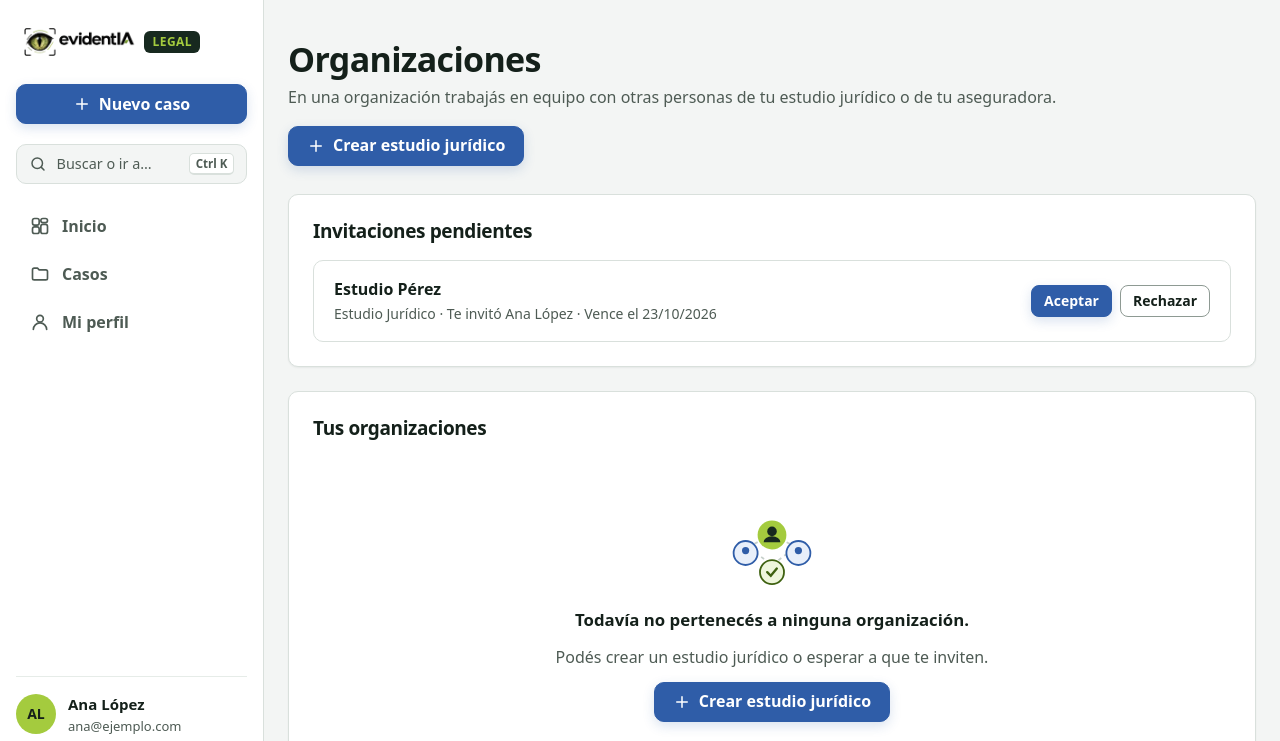
Test: mis organizaciones › aceptar una invitación lleva a la organización (CA10)
The image size is (1280, 741).
What coordinates should you click on to do the following:
click the button with aria-label "Aceptar la invitación de Estudio Pérez"
I would click on:
 (1072, 301)
Its box is [1031,285,1112,317].
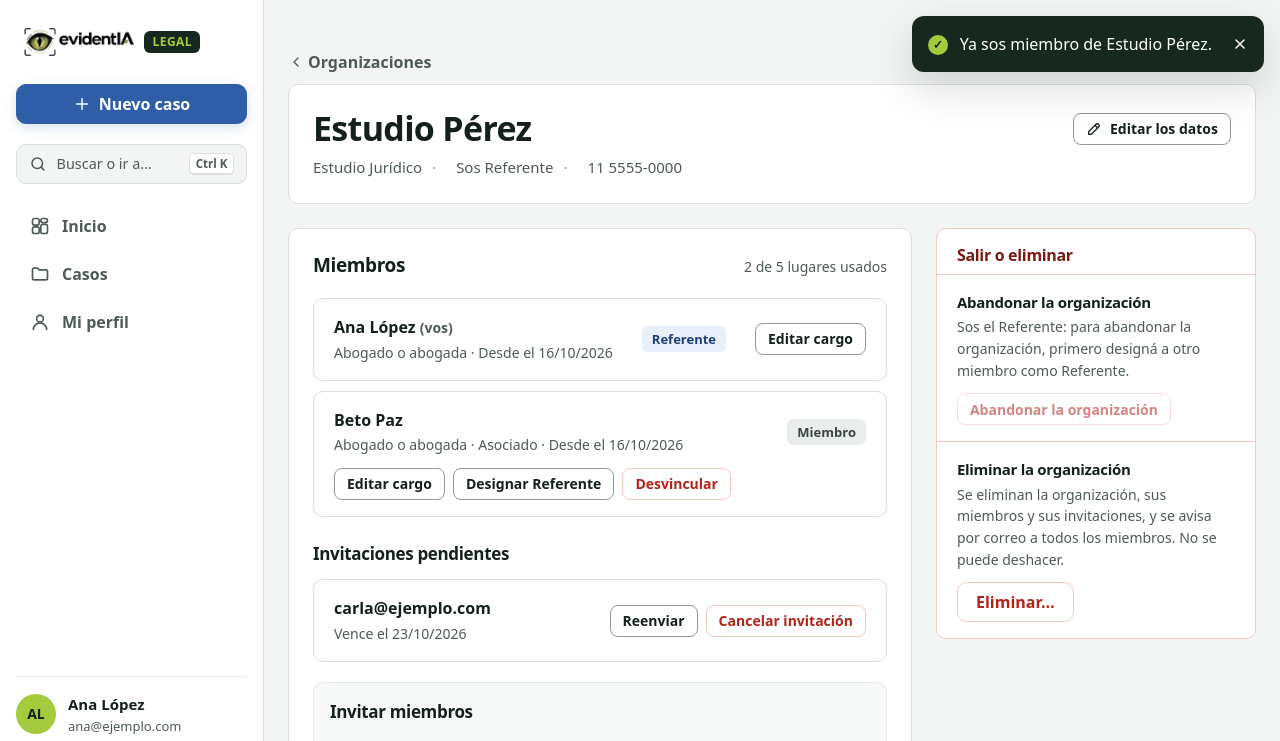
Expected: the text "Ya sos miembro de Estudio Pérez." is shown, [960,32,1212,56]
Expected: the heading "Estudio Pérez" is shown, [313,109,532,148]
